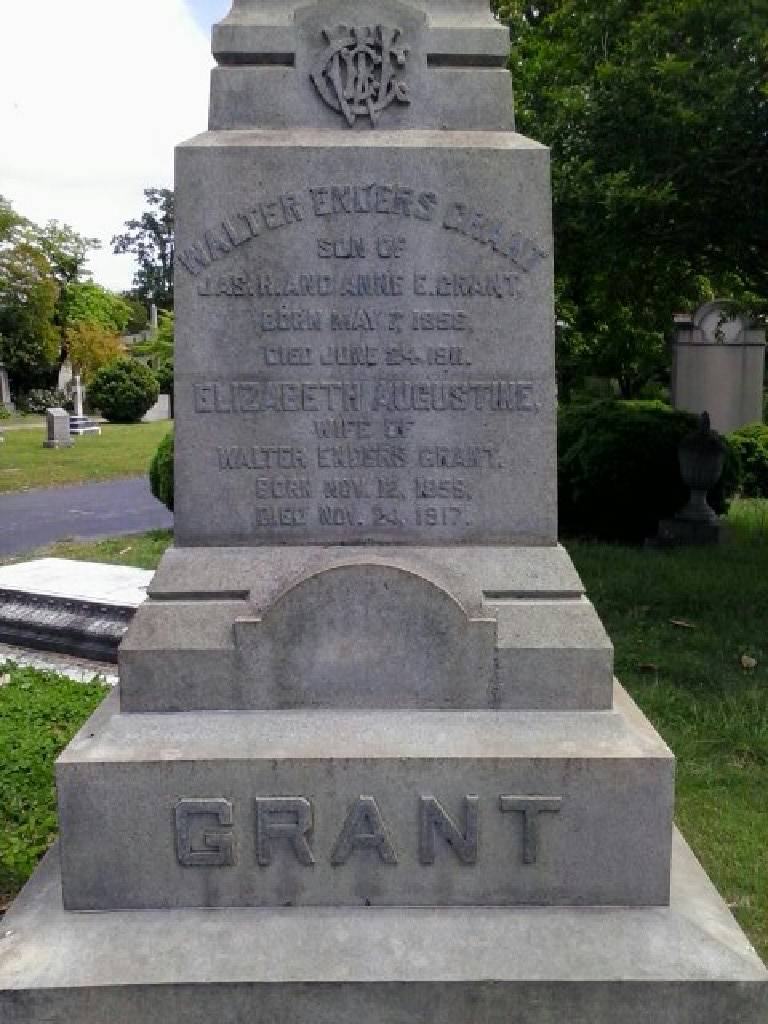obelisk: (55, 0, 679, 904)
